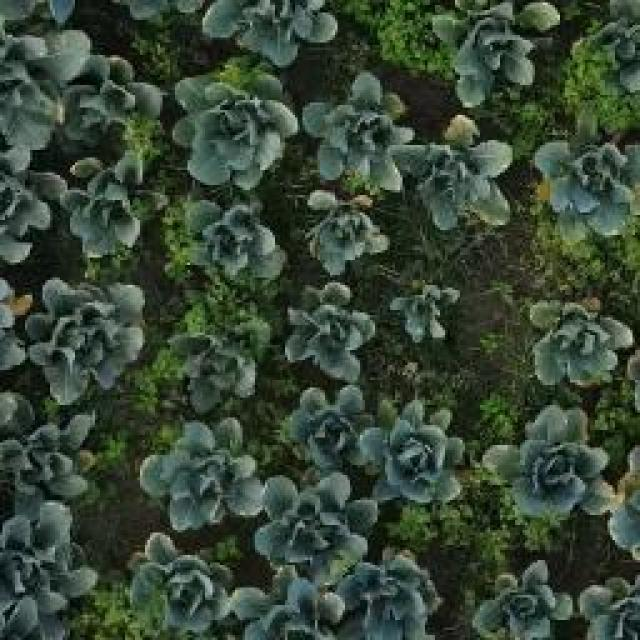cabbage: (485, 400, 617, 525), (29, 275, 149, 406), (400, 112, 522, 232), (245, 467, 377, 575), (173, 62, 285, 180), (138, 415, 248, 533), (438, 0, 560, 105), (361, 391, 467, 505), (304, 74, 402, 193), (58, 144, 158, 258), (0, 499, 94, 617), (128, 532, 234, 636), (0, 19, 88, 143), (68, 47, 171, 148), (284, 279, 386, 380), (533, 138, 640, 234), (528, 297, 634, 392), (181, 194, 288, 287), (166, 323, 275, 414), (200, 0, 345, 66), (5, 411, 105, 506), (474, 562, 575, 640), (280, 380, 369, 467), (348, 558, 441, 638), (234, 574, 341, 640), (307, 195, 389, 272), (388, 275, 469, 345)
